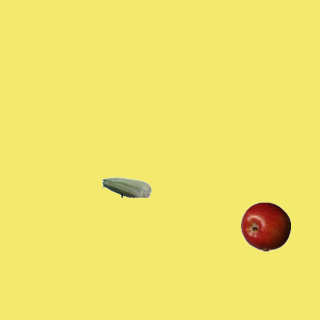Apple Braeburn: (240, 201, 290, 251)
Corn Husk: (101, 162, 151, 212)
